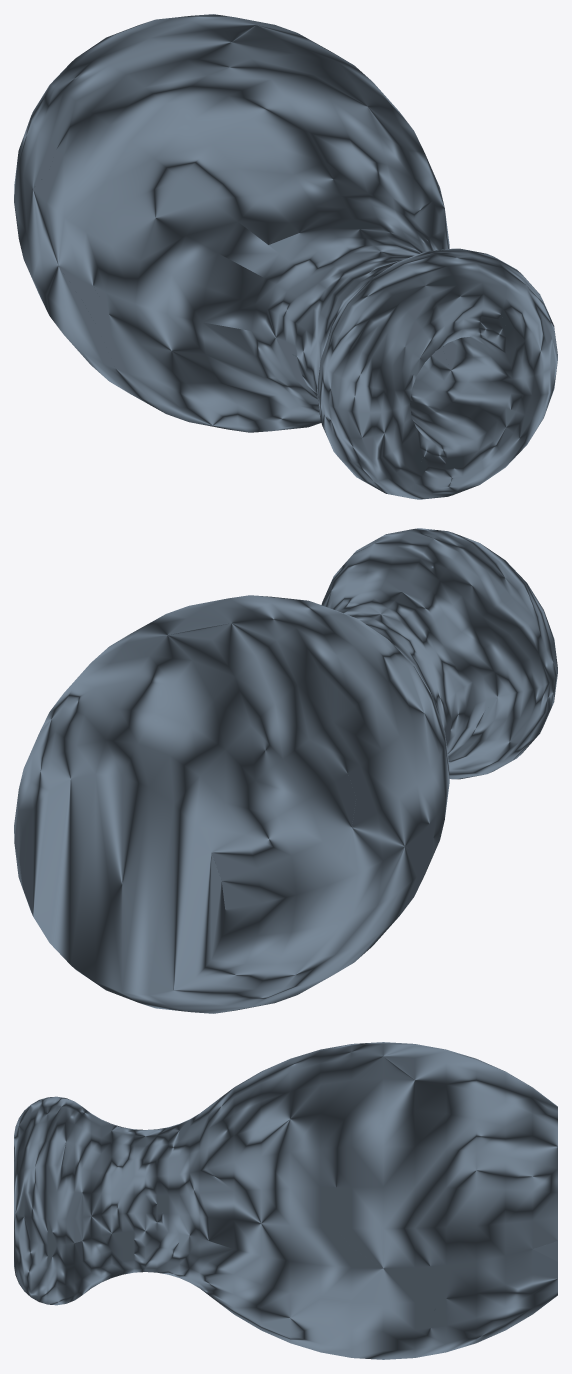
Rendered from model_align.obj.
3 views of the same model, one above another, from view 1: azimuth 30°, elevation 25°; view 2: azimuth 150°, elevation 25°; view 3: azimuth 270°, elevation 25° (orthographic). The views are drawn at different scales.
Bounding box in the file's own units: 0.0668 × 0.0668 × 0.1139.
